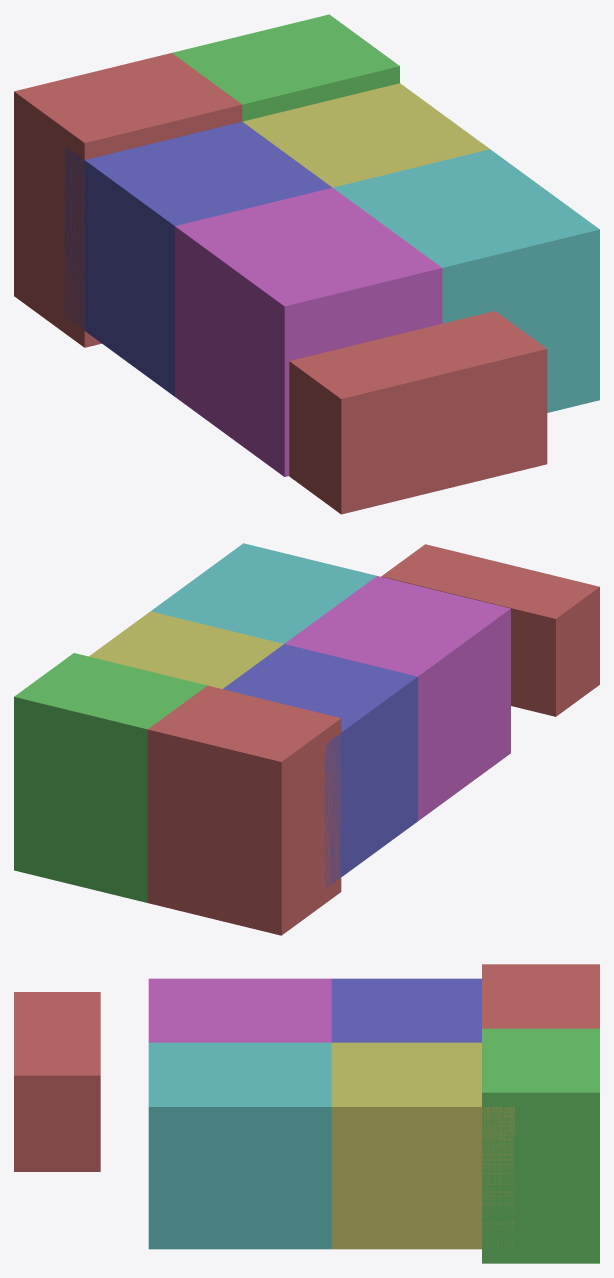
The model's file is order_106647_pall_3.glb.
3 views of the same model, one above another, from view 1: azimuth 30°, elevation 25°; view 2: azimuth 150°, elevation 25°; view 3: azimuth 270°, elevation 25° (orthographic). The views are drawn at different scales.
Visible parts, largest first — view 1: world; view 2: world; view 3: world.
Boxes of the visible parts, box(x1,y1,x2,y2) form: world: box(14, 14, 599, 514); world: box(14, 543, 599, 935); world: box(14, 964, 599, 1263).
Bounding box in the file's own units: 1253 × 722 × 2246.
